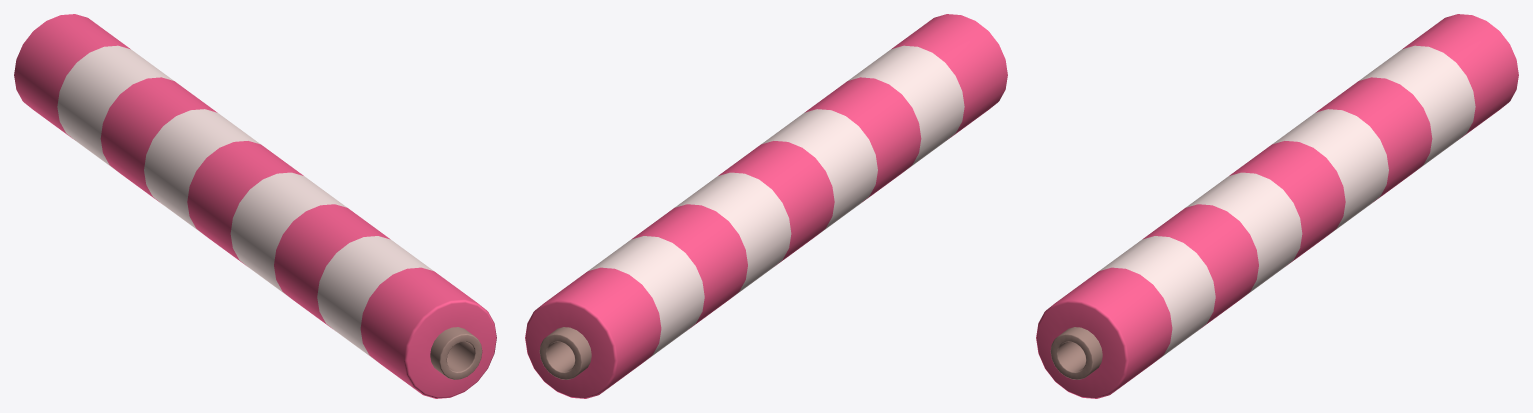
The model's file is Public_19_Fabric_Roll_4.glb.
The picture shows the model from 3 angles, left to right: view 1: azimuth 30°, elevation 25°; view 2: azimuth 150°, elevation 25°; view 3: azimuth 330°, elevation 25°; orthographic projection.
Parts seen in each view (by area): view 1: Public_19_Fabric_Roll_4; view 2: Public_19_Fabric_Roll_4; view 3: Public_19_Fabric_Roll_4.
Boxes of the visible parts, x1=… form: Public_19_Fabric_Roll_4: x1=14, y1=14, x2=496, y2=398; Public_19_Fabric_Roll_4: x1=525, y1=14, x2=1007, y2=398; Public_19_Fabric_Roll_4: x1=1036, y1=14, x2=1518, y2=398.
Bounding box in the file's own units: 0.397 × 0.397 × 3.04.
Materials: 1 (1 with a texture image).
